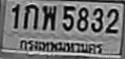1: (11, 4, 19, 29)
2: (106, 9, 119, 33)
3: (91, 8, 103, 32)
5: (62, 5, 75, 31)
8: (77, 6, 89, 31)
A01: (23, 4, 39, 29)
A30: (41, 5, 57, 31)
BKK: (18, 37, 105, 56)
